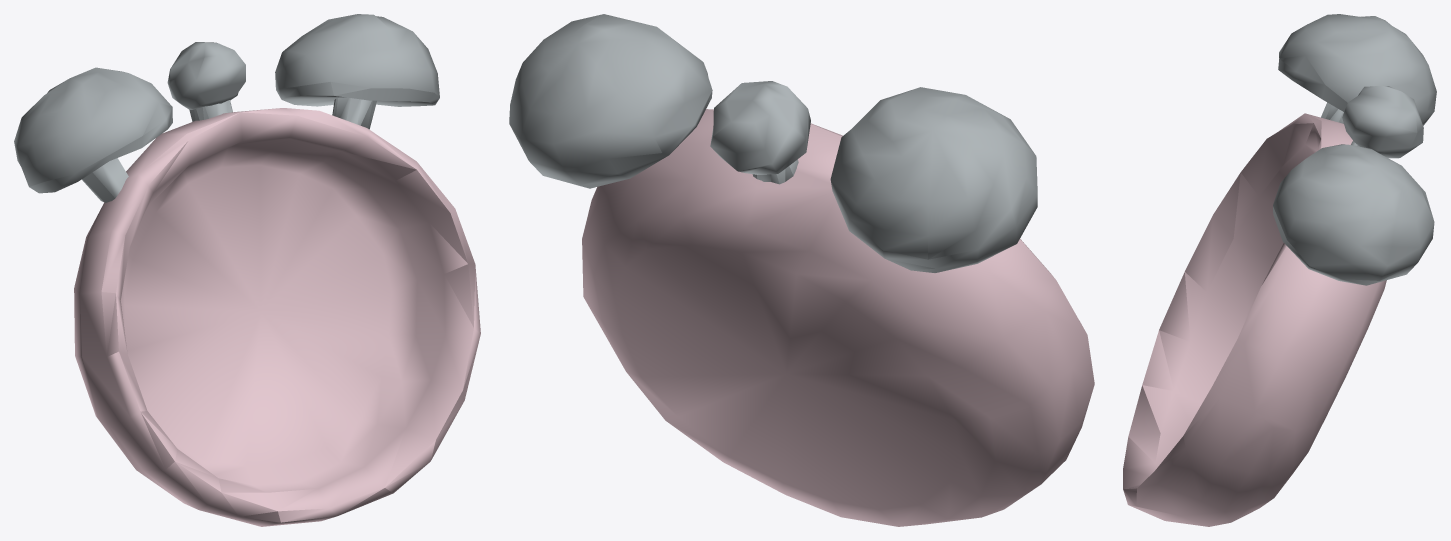
The model's file is bedroom_alarm.glb.
3 views of the same model, side by side, from view 1: azimuth 30°, elevation 25°; view 2: azimuth 150°, elevation 25°; view 3: azimuth 270°, elevation 25° (orthographic). The views are drawn at different scales.
Size of the model in its own units: 0.3 by 0.2928 by 0.1979.
